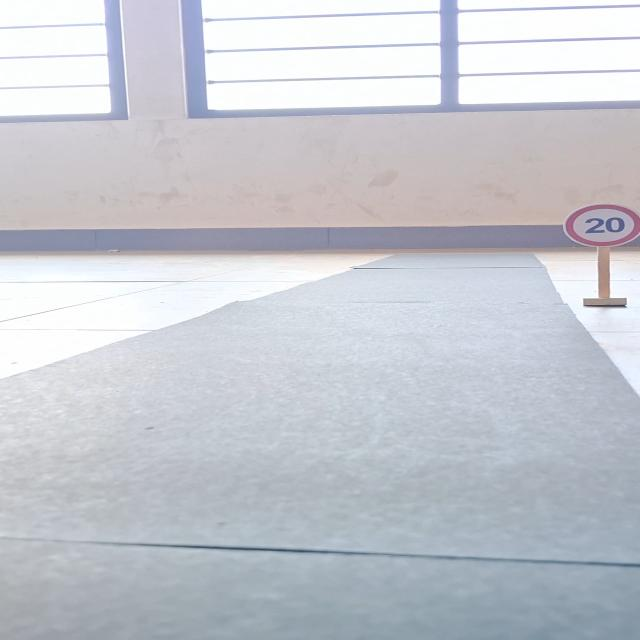Speed20: (559, 199, 640, 252)
